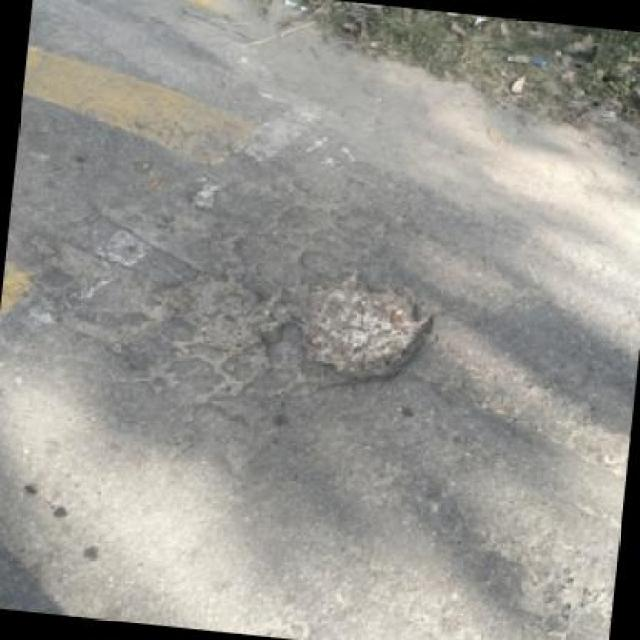pothole1: (285, 266, 443, 394), (145, 264, 292, 361)
